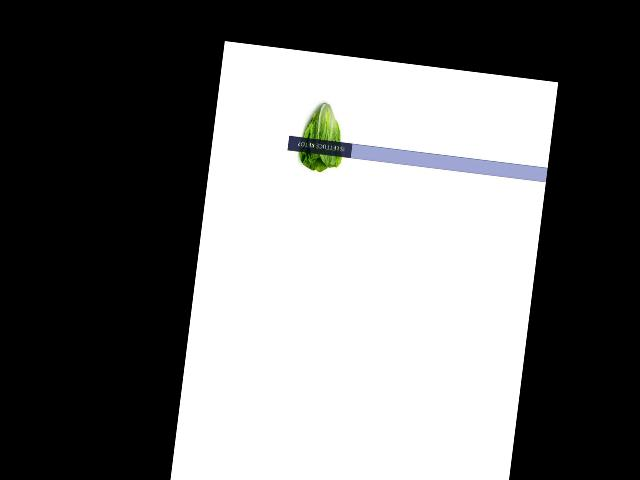lettuce: (293, 94, 350, 174)
